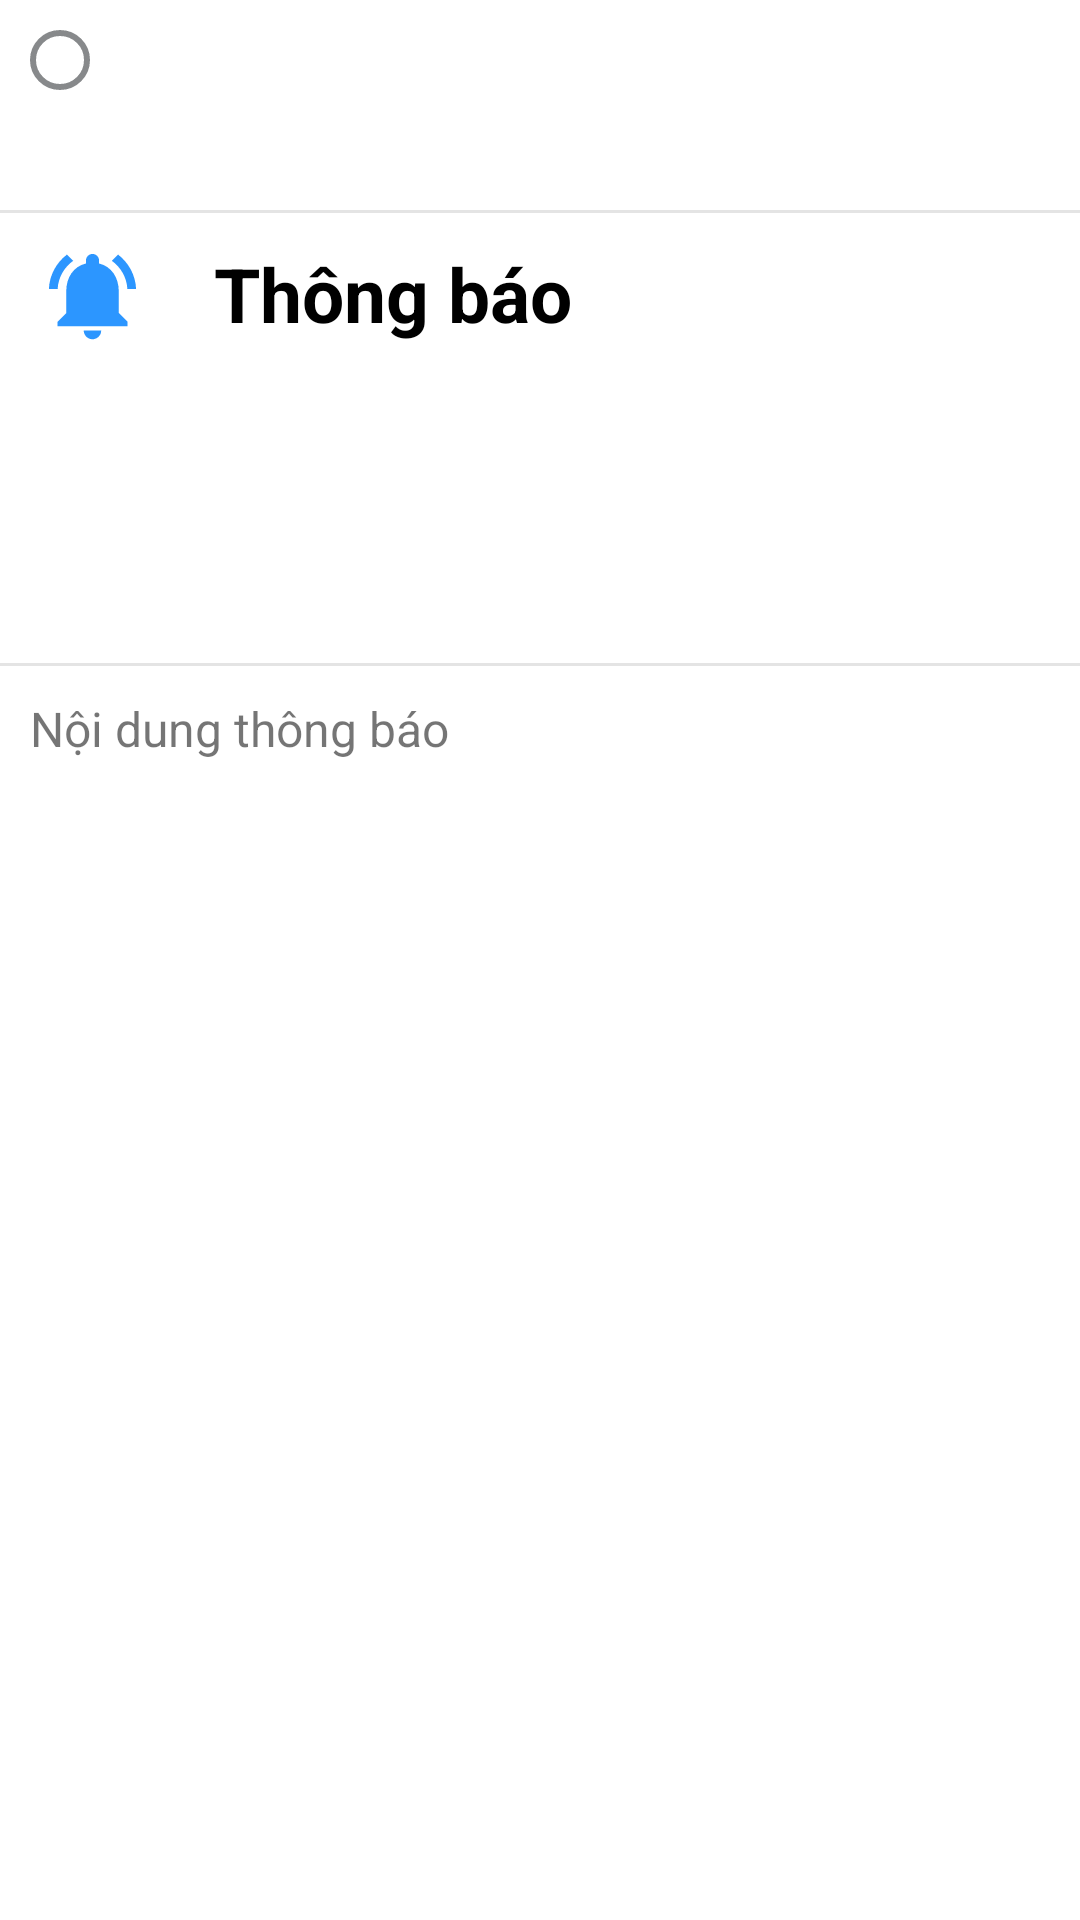

Screen size 1080×1920. Icon name, then its box in pixels as (x1, y1, x2, y2):
notifications: (49, 254, 136, 340)
